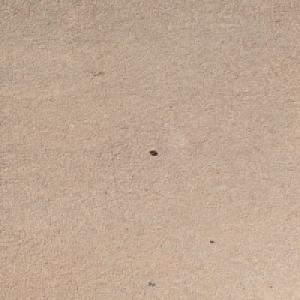Nut: (148, 149, 156, 154)
